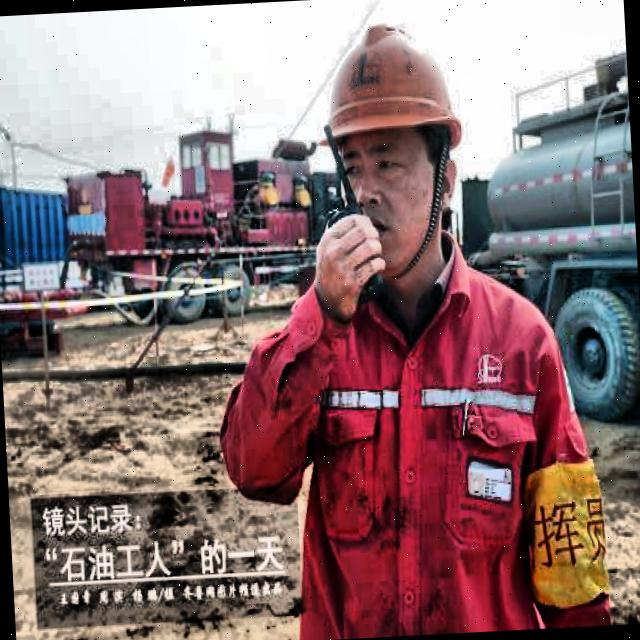helmet: (302, 7, 494, 284)
